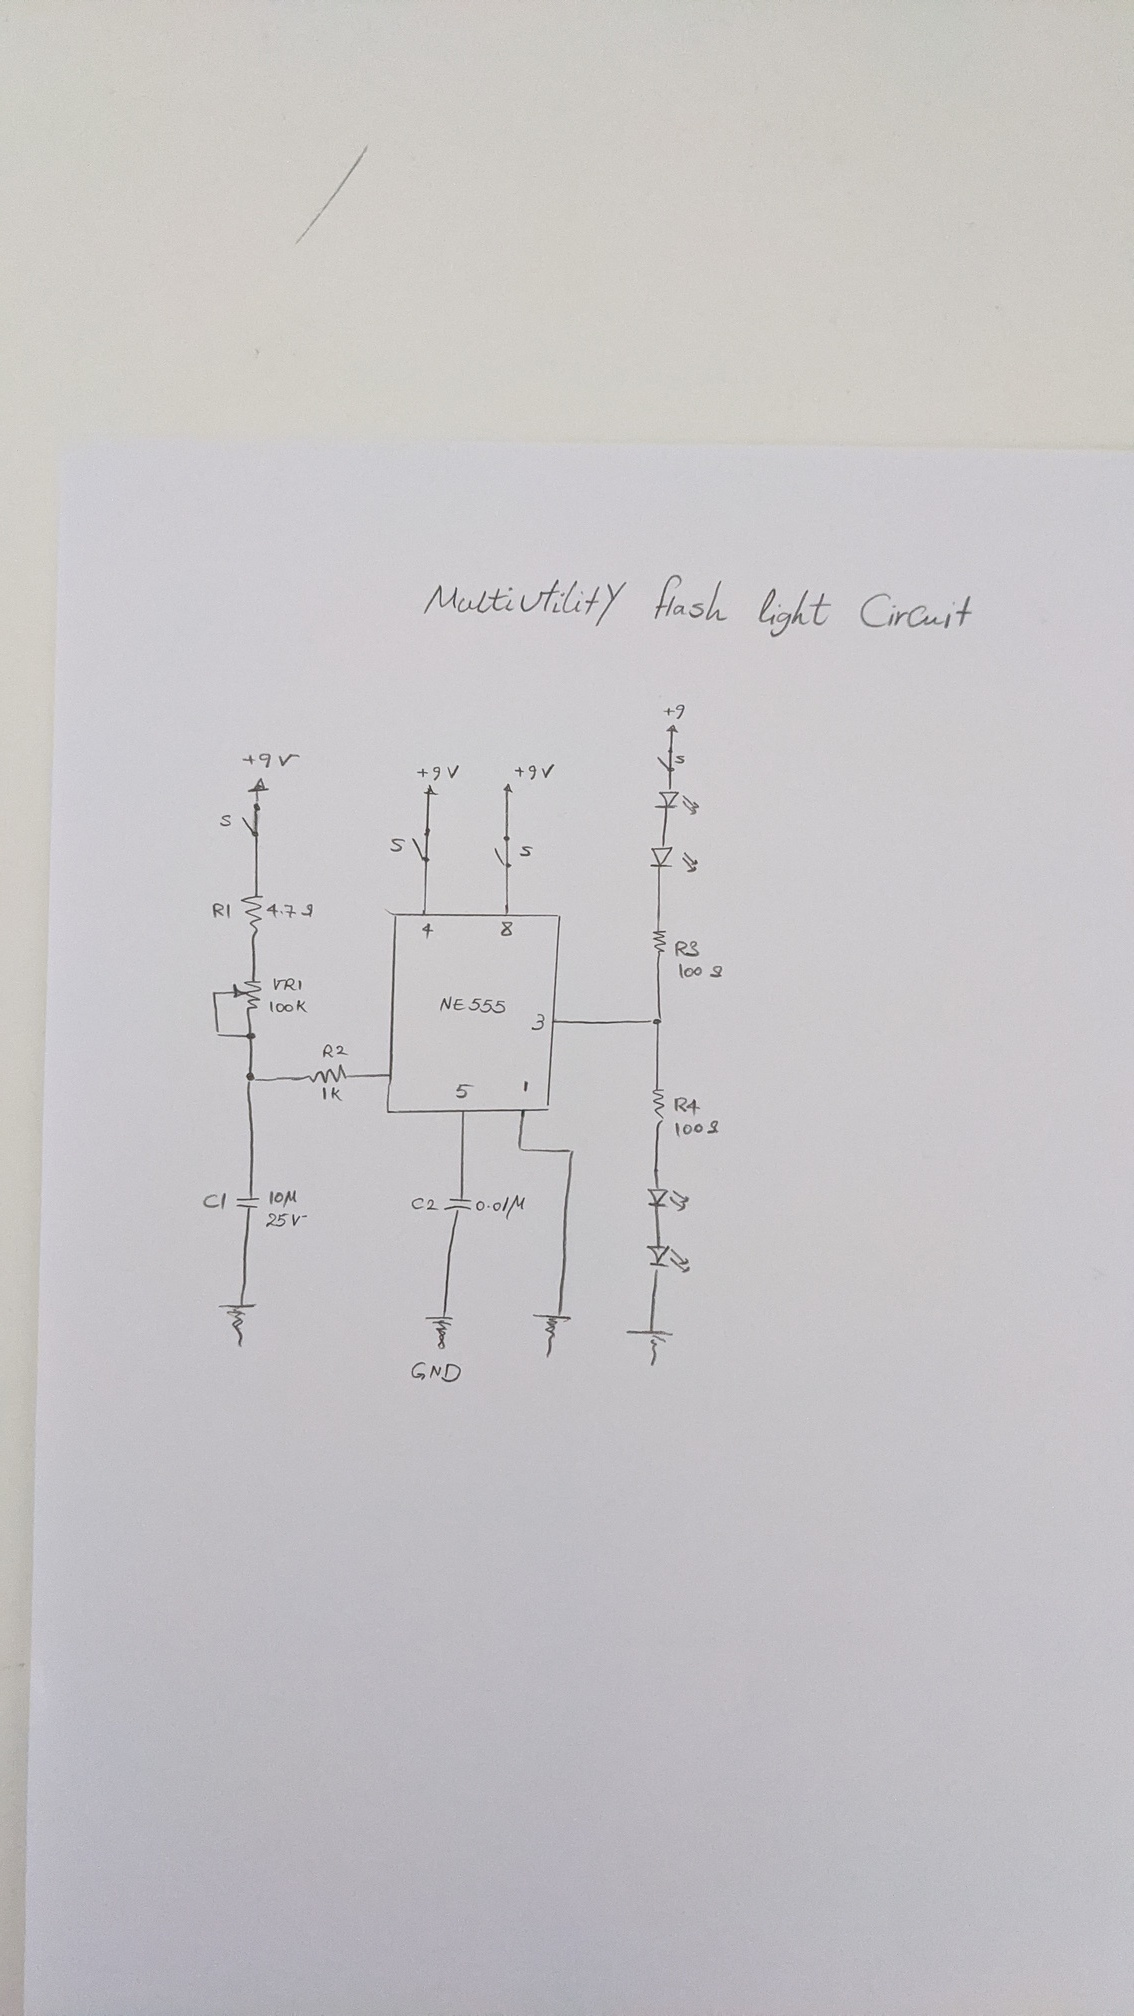capacitor.unpolarized: (442, 1195, 474, 1214), (234, 1194, 260, 1212)
diode.light_emitting: (645, 1243, 692, 1275), (649, 845, 699, 874), (654, 786, 701, 817), (647, 1187, 690, 1212)
gnd: (532, 1311, 573, 1360), (624, 1328, 676, 1367), (217, 1302, 258, 1349), (424, 1314, 456, 1351)
integrated_cricuit.ne555: (382, 908, 564, 1116)
junction: (244, 1072, 258, 1084), (649, 1015, 663, 1026), (245, 1030, 258, 1041), (566, 1146, 575, 1156), (215, 1029, 222, 1038), (516, 1144, 523, 1152), (210, 990, 217, 997)
resistor: (240, 894, 264, 937), (305, 1063, 348, 1084), (651, 1086, 667, 1128), (652, 929, 667, 960)
resistor.adjustable: (231, 978, 263, 1011)
switch: (410, 828, 433, 863), (492, 834, 514, 870), (241, 802, 262, 838), (656, 748, 676, 773)
text: (422, 570, 973, 640), (438, 994, 508, 1016), (475, 1194, 526, 1220), (410, 1360, 462, 1383), (242, 750, 302, 770), (264, 901, 314, 919), (674, 1119, 720, 1138), (512, 762, 557, 781), (678, 962, 723, 980), (264, 1212, 309, 1228), (415, 764, 460, 781), (266, 997, 309, 1014), (672, 939, 701, 960), (673, 1095, 701, 1116), (201, 1191, 228, 1212), (269, 1188, 298, 1207), (321, 1043, 349, 1061), (271, 976, 303, 991), (411, 1196, 439, 1212), (453, 1081, 475, 1099), (210, 901, 233, 919), (663, 703, 685, 720), (321, 1086, 343, 1102), (420, 919, 435, 942), (388, 836, 406, 854), (529, 1012, 546, 1032), (498, 919, 514, 937), (518, 845, 534, 858), (219, 813, 233, 828), (521, 1079, 532, 1095), (674, 753, 685, 766)
vss: (246, 775, 270, 793), (422, 784, 439, 798), (501, 782, 515, 793), (665, 724, 680, 734)
